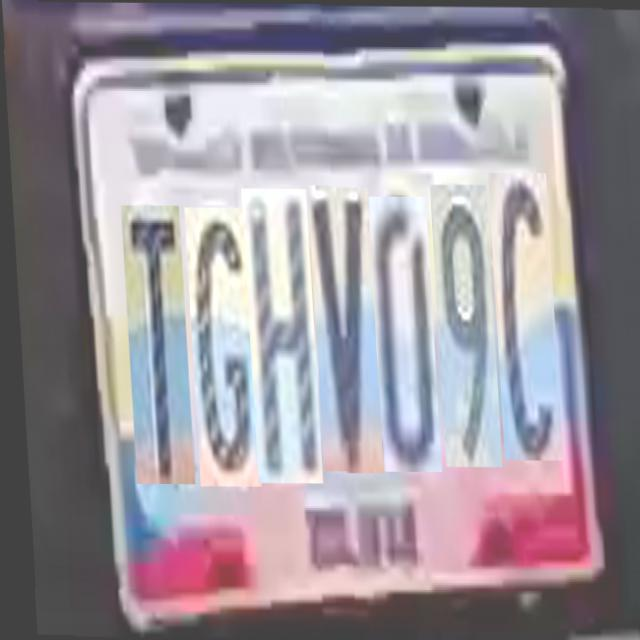0: (366, 194, 436, 469)
9: (428, 182, 497, 464)
C: (486, 170, 557, 458)
G: (182, 207, 256, 486)
H: (239, 188, 317, 483)
T: (118, 206, 189, 484)
V: (305, 185, 378, 471)
